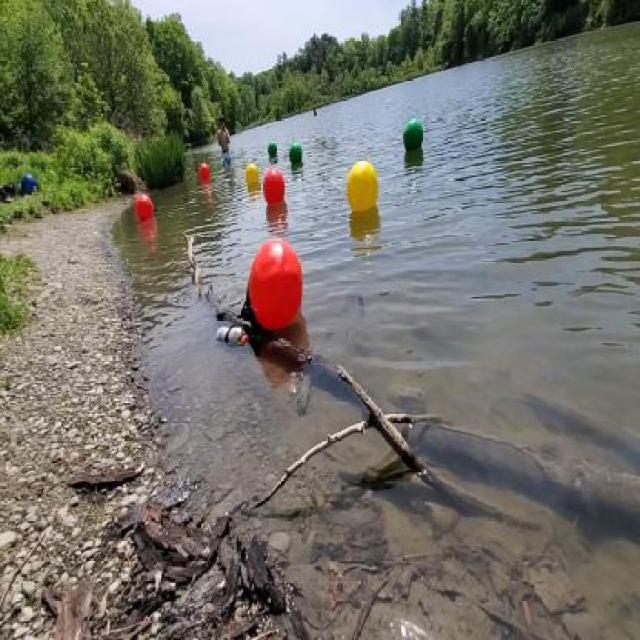buoy: (238, 235, 304, 336), (346, 160, 380, 214), (262, 166, 286, 212), (400, 118, 426, 156), (134, 191, 154, 224), (288, 144, 304, 172), (197, 160, 211, 186), (244, 163, 258, 186), (266, 139, 279, 161)
